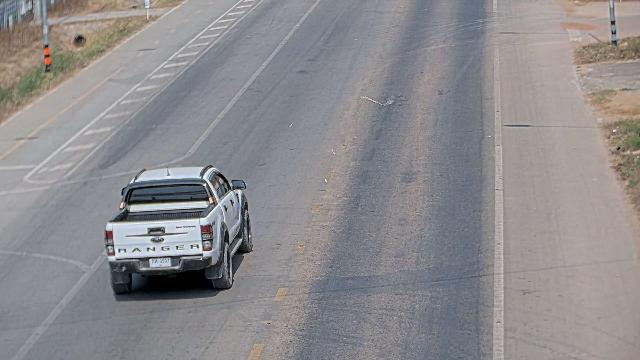pickup-truck: (103, 164, 253, 295)
